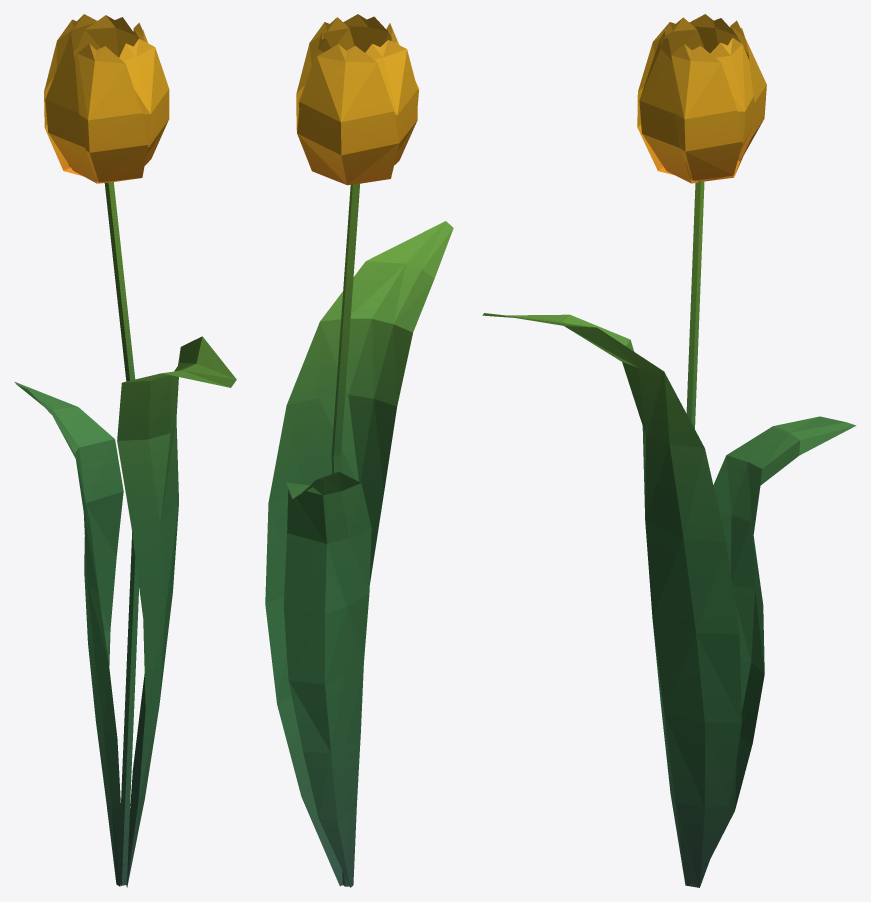
File: amarilla-3.glb
The picture shows the model from 3 angles, left to right: view 1: azimuth 30°, elevation 25°; view 2: azimuth 150°, elevation 25°; view 3: azimuth 270°, elevation 25°; orthographic projection.
Visible parts, largest first — view 1: Flower.020; view 2: Flower.020; view 3: Flower.020.
Boxes of the visible parts, bbox=[...] form: Flower.020: bbox=[14, 14, 236, 887]; Flower.020: bbox=[265, 14, 453, 887]; Flower.020: bbox=[482, 14, 856, 887].
Size of the model in its own units: 0.353 by 2.27 by 0.9054.
Materials: 1 (1 with a texture image).
